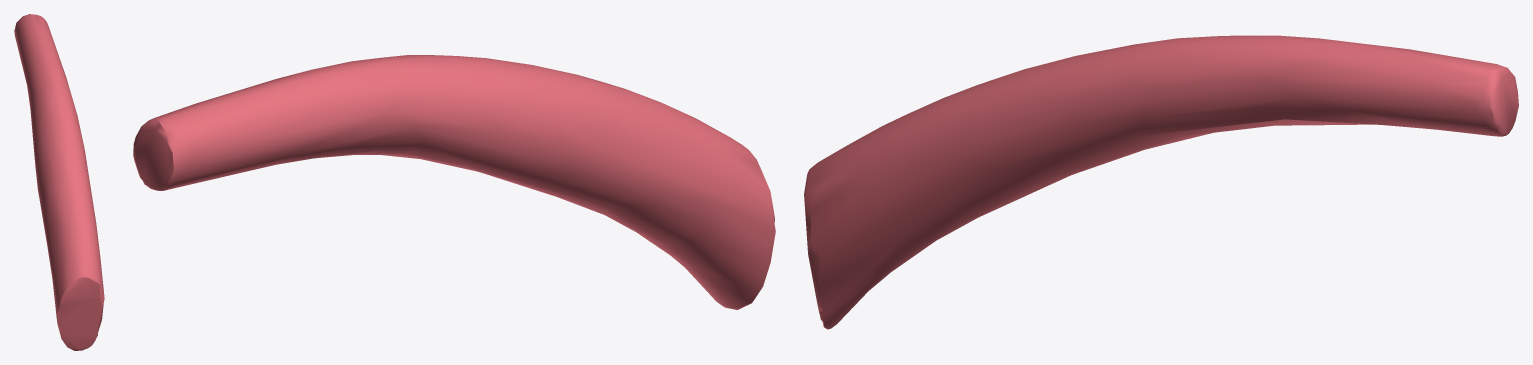
Rendered from fma68665_fj2989.glb.
3 views of the same model, side by side, from view 1: azimuth 30°, elevation 25°; view 2: azimuth 150°, elevation 25°; view 3: azimuth 270°, elevation 25° (orthographic). The views are drawn at different scales.
Visible parts, largest first — view 1: FMA68665_FJ2989; view 2: FMA68665_FJ2989; view 3: FMA68665_FJ2989.
Part boxes in pixels (x1,y1,x2,y2): FMA68665_FJ2989: [14, 14, 104, 350]; FMA68665_FJ2989: [133, 55, 775, 309]; FMA68665_FJ2989: [804, 35, 1518, 329].
Bounding box in the file's own units: 0.00789 × 0.00907 × 0.0157.
